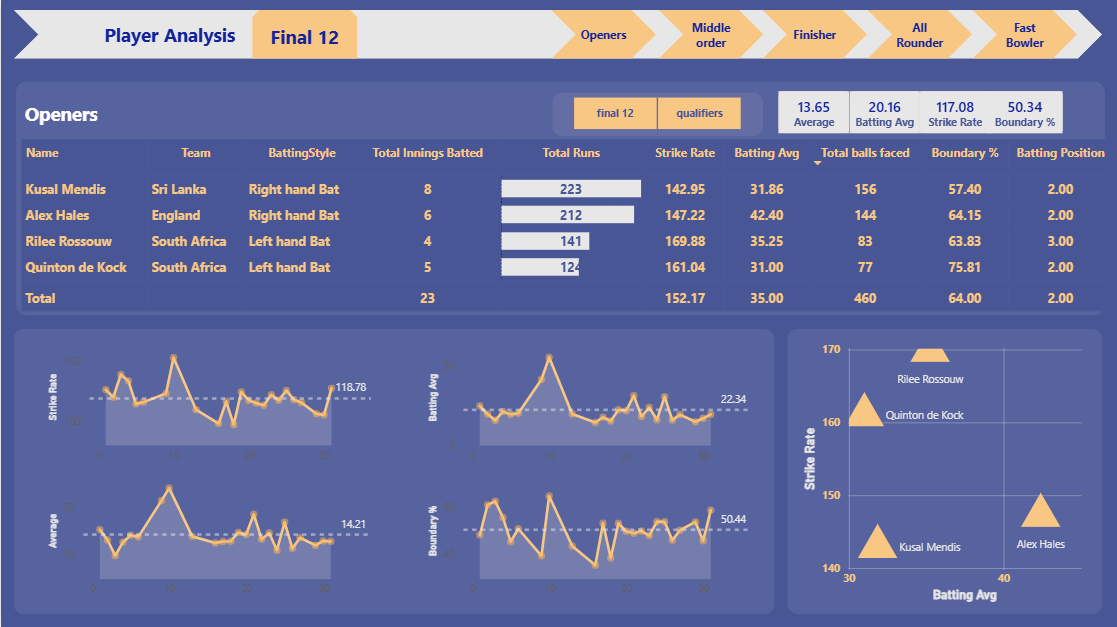

This screenshot's page, from the dashboard's own definition file:
{"tool":"powerbi","page":{"name":"openers /power hitters","canvas":[1280,720],"ordinal":0},"visuals":[{"type":"shape","box":[17.8,92.2,1244.4,267.8],"z":0},{"type":"shape","box":[630,105.6,241.1,50],"z":1000},{"type":"shape","box":[898.8,375,360,326.2],"z":2000},{"type":"shape","box":[13.8,375,870,326.2],"z":3000},{"type":"scatterChart","title":"Batting Avg vs Strike Rate","fields":{"Category":["dim_players.name"],"X":["key measures.Batting Avg"],"Y":["key measures.Strike Rate"]},"box":[911.2,385,335,307.5],"z":4000},{"type":"areaChart","fields":{"Y":["key measures.Strike Rate"],"Category":["dim_match_summary.matchDate.Variation.Date Hierarchy.Day"]},"box":[48.8,386.2,378.8,152.5],"z":5000},{"type":"areaChart","fields":{"Y":["key measures.average"],"Category":["dim_match_summary.matchDate.Variation.Date Hierarchy.Day"]},"box":[48.8,538.8,378.8,152.5],"z":6000},{"type":"areaChart","fields":{"Y":["key measures.Boundary %"],"Category":["dim_match_summary.matchDate.Variation.Date Hierarchy.Day"]},"box":[482.5,538.8,378.8,152.5],"z":7000},{"type":"tableEx","fields":{"Values":["dim_players.name","dim_players.team","dim_players.battingStyle","key measures.Total Innings Batted","key measures.Total Runs","key measures.Strike Rate","key measures.Batting Avg","key measures.total balls faced","key measures.Boundary %","key measures.Batting Position"]},"box":[17.5,153.8,1262.5,206.2],"z":8000},{"type":"areaChart","fields":{"Category":["dim_match_summary.matchDate.Variation.Date Hierarchy.Day"],"Y":["key measures.Batting Avg"]},"box":[482.5,385,378.8,153.8],"z":9000},{"type":"cardVisual","fields":{"Data":["key measures.Strike Rate"]},"box":[1050,104.4,81.1,48.9],"z":10000},{"type":"cardVisual","fields":{"Data":["key measures.Batting Avg"]},"box":[970,104.4,80,48.9],"z":11000},{"type":"cardVisual","fields":{"Data":["key measures.Boundary %"]},"box":[1126.7,104.4,86.7,48.9],"z":12000},{"type":"cardVisual","fields":{"Data":["key measures.Average"]},"box":[888.9,104.4,81.1,48.9],"z":13000},{"type":"slicer","fields":{"Values":["dim_match_summary.stage"]},"box":[628.9,104.4,241.1,50],"z":14000},{"type":"shape","box":[14.3,11.4,1244.3,55.7],"z":15000},{"type":"shape","box":[751.4,11.4,120,55.7],"z":16000},{"type":"shape","box":[870,11.4,120,55.7],"z":17000},{"type":"shape","box":[990,11.4,120,55.7],"z":18000},{"type":"shape","box":[1110,11.4,120,55.7],"z":19000},{"type":"shape","box":[628.6,11.4,120,55.7],"z":20000},{"type":"shape","box":[287.1,11.4,120,55.7],"z":21000},{"type":"shape","box":[114.3,11.4,157.1,55.7],"z":22000},{"type":"shape","box":[27.1,101.4,140,55.7],"z":23000}]}

Visuals, with their boxes in screenshot pixels (x1, y1, x2, y2), scaled from the page's 1280x720 canvas onto the 1117x627 screenshot:
shape: x1=16 y1=80 x2=1101 y2=314
shape: x1=550 y1=92 x2=760 y2=136
shape: x1=784 y1=327 x2=1098 y2=611
shape: x1=12 y1=327 x2=771 y2=611
"Batting Avg vs Strike Rate" scatterChart: x1=795 y1=335 x2=1088 y2=603
areaChart - key measures.Strike Rate x dim_match_summary.matchDate.Variation.Date Hierarchy.Day: x1=43 y1=336 x2=373 y2=469
areaChart - key measures.average x dim_match_summary.matchDate.Variation.Date Hierarchy.Day: x1=43 y1=469 x2=373 y2=602
areaChart - key measures.Boundary % x dim_match_summary.matchDate.Variation.Date Hierarchy.Day: x1=421 y1=469 x2=752 y2=602
tableEx - dim_players.name x dim_players.team: x1=15 y1=134 x2=1116 y2=314
areaChart - dim_match_summary.matchDate.Variation.Date Hierarchy.Day x key measures.Batting Avg: x1=421 y1=335 x2=752 y2=469
cardVisual - key measures.Strike Rate: x1=916 y1=91 x2=987 y2=133
cardVisual - key measures.Batting Avg: x1=846 y1=91 x2=916 y2=133
cardVisual - key measures.Boundary %: x1=983 y1=91 x2=1059 y2=133
cardVisual - key measures.Average: x1=776 y1=91 x2=846 y2=133
slicer - dim_match_summary.stage: x1=549 y1=91 x2=759 y2=134
shape: x1=12 y1=10 x2=1098 y2=58
shape: x1=656 y1=10 x2=760 y2=58
shape: x1=759 y1=10 x2=864 y2=58
shape: x1=864 y1=10 x2=969 y2=58
shape: x1=969 y1=10 x2=1073 y2=58
shape: x1=549 y1=10 x2=653 y2=58
shape: x1=251 y1=10 x2=355 y2=58
shape: x1=100 y1=10 x2=237 y2=58
shape: x1=24 y1=88 x2=146 y2=137
